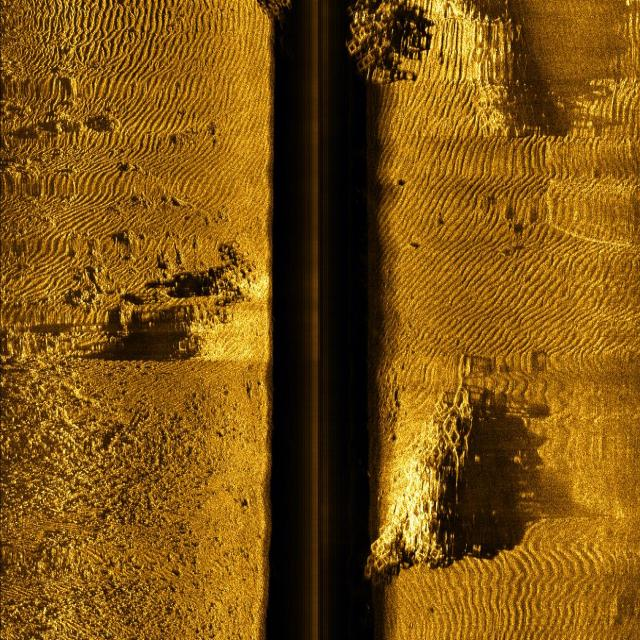artificial reef: (357, 354, 491, 592), (350, 0, 412, 103), (249, 0, 295, 36)
